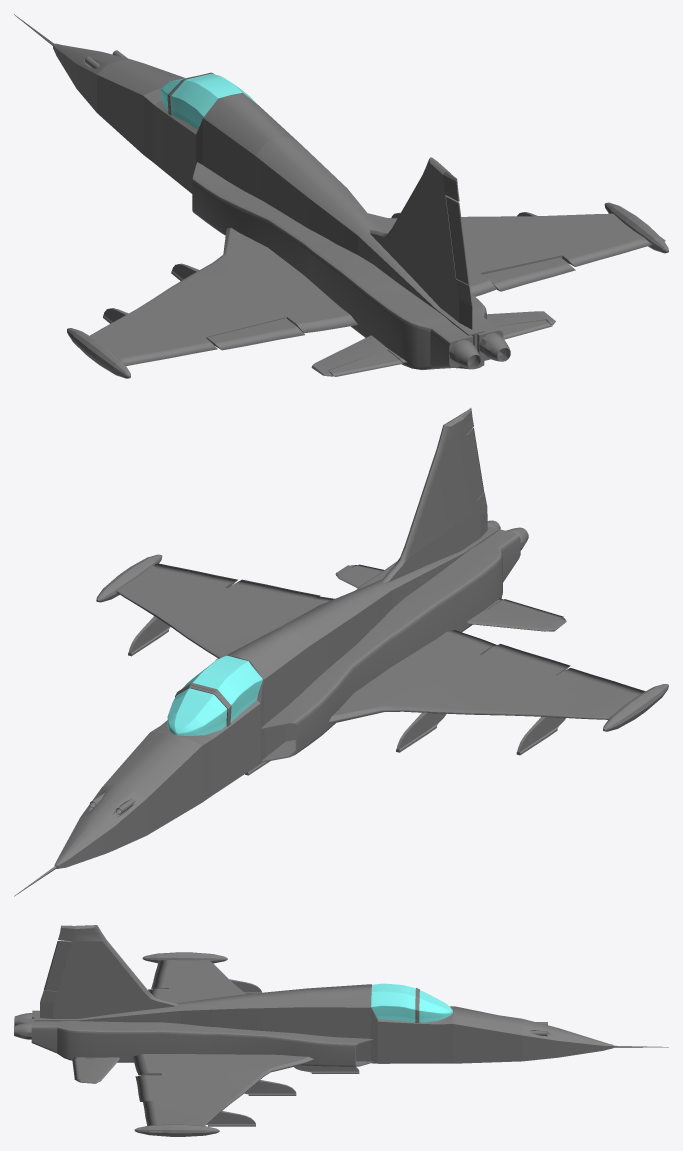
3 views of the same model, one above another, from view 1: azimuth 30°, elevation 25°; view 2: azimuth 150°, elevation 25°; view 3: azimuth 270°, elevation 25° (orthographic). The views are drawn at different scales.
Visible parts, largest first — view 1: polySurface6 polySurface16, polySurface6 polySurface34, polySurface6 polySurface32, polySurface6 polySurface25, polySurface6 polySurface13, polySurface6 polySurface15, polySurface6 polySurface31, polySurface6 polySurface22, polySurface6 polySurface27, polySurface6 polySurface35, polySurface6 polySurface37, polySurface6 polySurface26 (+6 smaller); view 2: polySurface6 polySurface16, polySurface6 polySurface34, polySurface6 polySurface32, polySurface6 polySurface25, polySurface6 polySurface13, polySurface6 polySurface15, polySurface6 polySurface17, polySurface6 polySurface27, polySurface6 polySurface31, polySurface6 polySurface35, polySurface6 polySurface22, polySurface6 polySurface26 (+3 smaller); view 3: polySurface6 polySurface16, polySurface6 polySurface23, polySurface6 polySurface25, polySurface6 polySurface13, polySurface6 polySurface34, polySurface6 polySurface15, polySurface6 polySurface26, polySurface6 polySurface37, polySurface6 polySurface17, polySurface6 polySurface35, polySurface6 polySurface18, polySurface6 polySurface22 (+4 smaller).
Part boxes in pixels (bbox=[...]): polySurface6 polySurface16: bbox=[53, 43, 483, 369]; polySurface6 polySurface34: bbox=[90, 227, 357, 366]; polySurface6 polySurface32: bbox=[192, 162, 473, 370]; polySurface6 polySurface25: bbox=[368, 213, 665, 296]; polySurface6 polySurface13: bbox=[370, 157, 472, 329]; polySurface6 polySurface15: bbox=[171, 73, 256, 129]; polySurface6 polySurface31: bbox=[207, 318, 304, 350]; polySurface6 polySurface22: bbox=[483, 257, 575, 291]; polySurface6 polySurface27: bbox=[311, 335, 406, 376]; polySurface6 polySurface35: bbox=[67, 328, 130, 378]; polySurface6 polySurface37: bbox=[446, 196, 469, 285]; polySurface6 polySurface26: bbox=[604, 202, 668, 253]; polySurface6 polySurface16: bbox=[54, 527, 498, 868]; polySurface6 polySurface34: bbox=[329, 630, 645, 723]; polySurface6 polySurface32: bbox=[261, 529, 520, 762]; polySurface6 polySurface25: bbox=[116, 563, 334, 658]; polySurface6 polySurface13: bbox=[381, 408, 487, 582]; polySurface6 polySurface15: bbox=[182, 655, 262, 722]; polySurface6 polySurface17: bbox=[167, 688, 227, 735]; polySurface6 polySurface27: bbox=[467, 598, 566, 631]; polySurface6 polySurface31: bbox=[482, 644, 570, 675]; polySurface6 polySurface35: bbox=[603, 684, 668, 731]; polySurface6 polySurface22: bbox=[228, 579, 320, 605]; polySurface6 polySurface26: bbox=[96, 554, 162, 602]; polySurface6 polySurface16: bbox=[34, 984, 613, 1063]; polySurface6 polySurface23: bbox=[31, 1019, 373, 1066]; polySurface6 polySurface25: bbox=[133, 1054, 313, 1132]; polySurface6 polySurface13: bbox=[40, 925, 178, 1018]; polySurface6 polySurface34: bbox=[151, 960, 245, 1003]; polySurface6 polySurface15: bbox=[371, 983, 415, 1022]; polySurface6 polySurface26: bbox=[134, 1124, 219, 1136]; polySurface6 polySurface37: bbox=[44, 940, 71, 991]; polySurface6 polySurface17: bbox=[419, 990, 452, 1022]; polySurface6 polySurface35: bbox=[142, 952, 227, 963]; polySurface6 polySurface18: bbox=[73, 1057, 120, 1083]; polySurface6 polySurface22: bbox=[135, 1075, 161, 1101].
Bounding box in the file's own units: 8 × 3.07 × 12.49.
